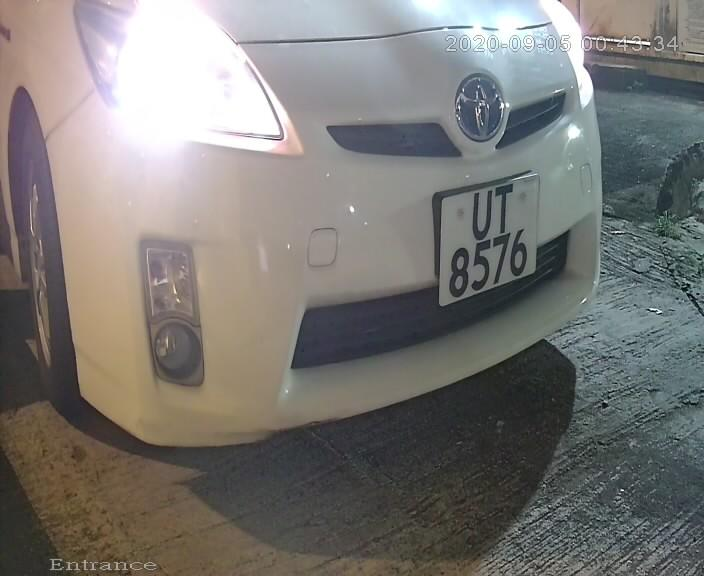License Plate: (422, 160, 554, 317)
